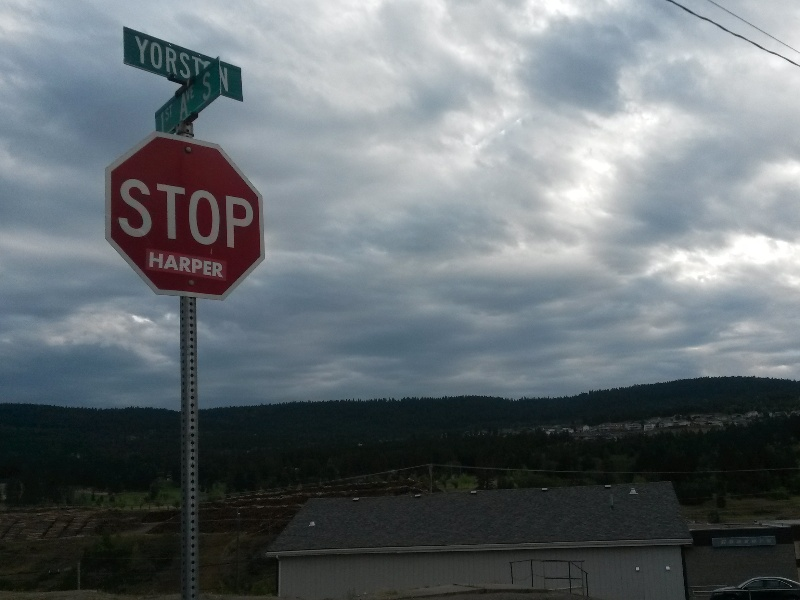stop sign: (100, 128, 270, 308)
